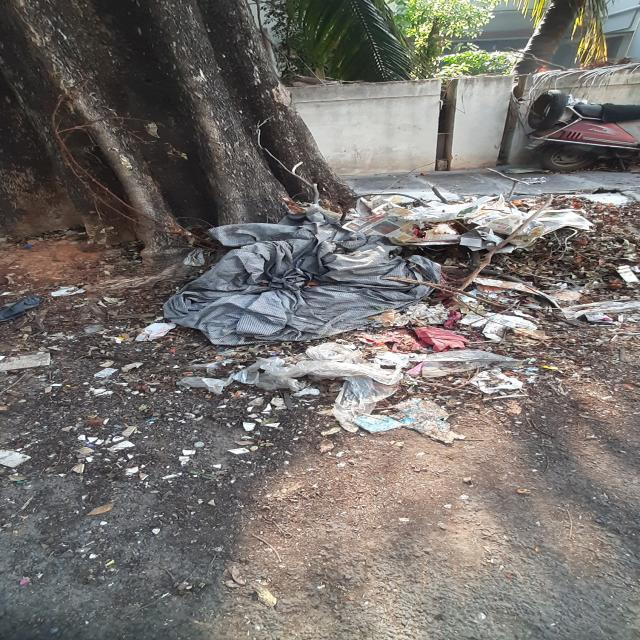Cig_pack: (616, 265, 640, 284)
Garbage: (163, 192, 640, 444), (0, 296, 41, 320)
Plastic: (163, 206, 439, 345), (0, 295, 41, 321)
Plastic_Bag: (179, 342, 521, 432), (562, 301, 640, 319), (415, 328, 469, 352)
